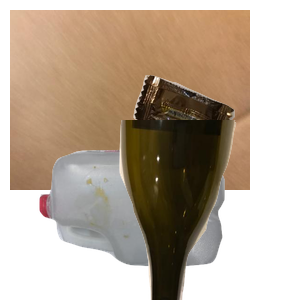cardboard: (10, 10, 250, 190)
glass: (117, 120, 300, 300)
plastic: (37, 147, 254, 300)
trash: (131, 73, 300, 202)
